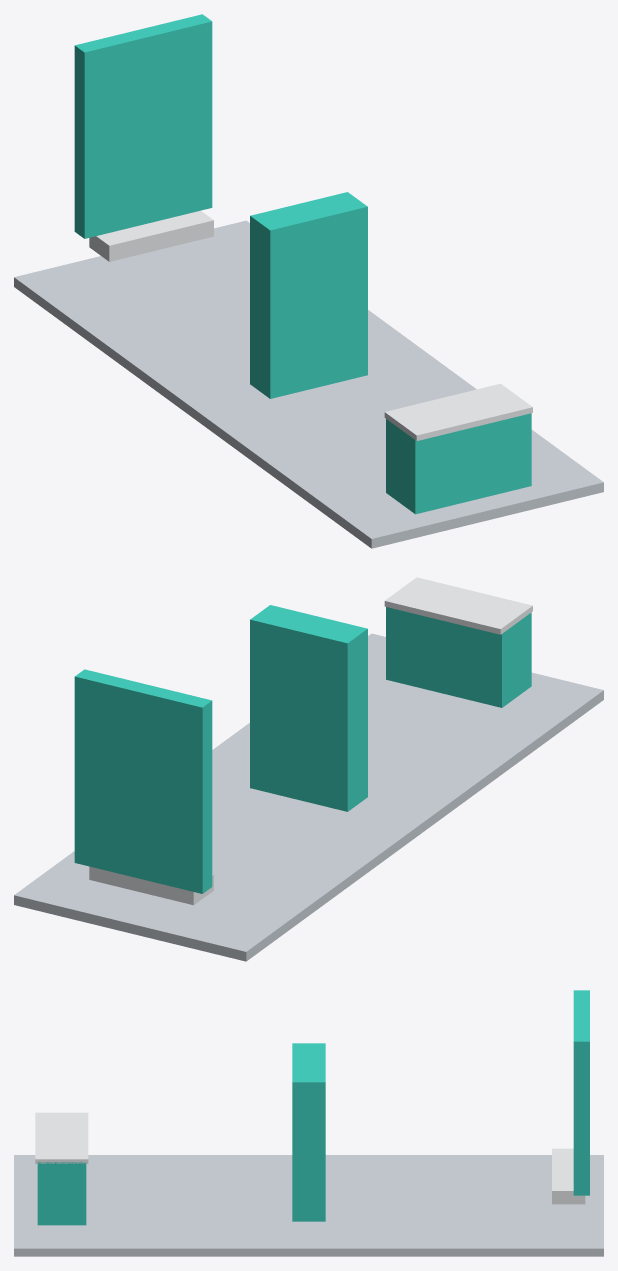
The picture shows the model from 3 angles, top to bottom: view 1: azimuth 30°, elevation 25°; view 2: azimuth 150°, elevation 25°; view 3: azimuth 270°, elevation 25°; orthographic projection. The views are drawn at different scales.
Visible parts, largest first — view 1: Exhibition Booth Concept; view 2: Exhibition Booth Concept; view 3: Exhibition Booth Concept.
Part boxes in pixels (x1,y1,x2,y2): Exhibition Booth Concept: (14,14,603,548); Exhibition Booth Concept: (14,577,603,961); Exhibition Booth Concept: (14,990,603,1256).
Bounding box in the file's own units: 3 × 2.9 × 8.
